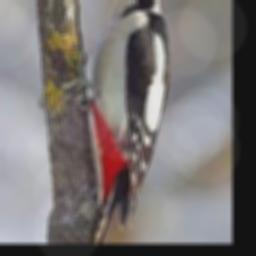Woodpecker: (68, 0, 171, 244)
